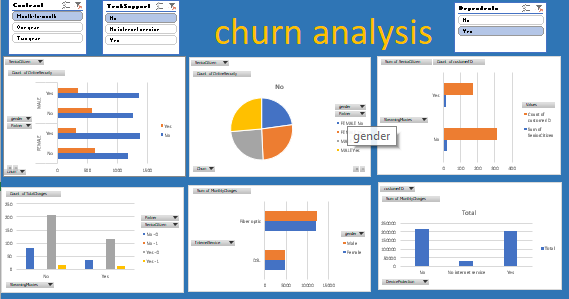

What the dashboard file says about the page in this screenshot:
{"tool":"powerbi","page":{"name":"Page 1","canvas":[1280,720],"ordinal":0},"visuals":[{"type":"columnChart","fields":{"Category":["WA_Fn-UseC_-Telco-Customer-Chur.Contract"],"Y":["CountNonNull(WA_Fn-UseC_-Telco-Customer-Chur.Dependents)"],"Series":["WA_Fn-UseC_-Telco-Customer-Chur.InternetService"]},"box":[0,378,355.3,342],"z":0},{"type":"kpi","fields":{"TrendLine":["WA_Fn-UseC_-Telco-Customer-Chur.MonthlyCharges"],"Indicator":["Sum(WA_Fn-UseC_-Telco-Customer-Chur.MonthlyCharges)"]},"box":[1.9,39.7,266.5,109.6],"z":1},{"type":"donutChart","fields":{"Y":["CountNonNull(WA_Fn-UseC_-Telco-Customer-Chur.PaymentMethod)"],"Series":["WA_Fn-UseC_-Telco-Customer-Chur.PhoneService"]},"box":[763.5,378,515.9,342],"z":2},{"type":"pieChart","fields":{"Category":["WA_Fn-UseC_-Telco-Customer-Chur.gender"],"Y":["CountNonNull(WA_Fn-UseC_-Telco-Customer-Chur.PaperlessBilling)"]},"box":[355.3,378,408.2,342],"z":3},{"type":"gauge","fields":{"Y":["Sum(WA_Fn-UseC_-Telco-Customer-Chur.SeniorCitizen)"]},"box":[763.5,0,515.9,378],"z":5},{"type":"clusteredColumnChart","fields":{"Y":["Sum(WA_Fn-UseC_-Telco-Customer-Chur.MonthlyCharges)"],"Category":["WA_Fn-UseC_-Telco-Customer-Chur.StreamingTV"]},"box":[497,0,266.5,378],"z":6},{"type":"columnChart","fields":{"Category":["WA_Fn-UseC_-Telco-Customer-Chur.StreamingMovies"],"Y":["Sum(WA_Fn-UseC_-Telco-Customer-Chur.TotalCharges)"]},"box":[0,149.3,266.5,228.7],"z":7},{"type":"hundredPercentStackedColumnChart","fields":{"Y":["Sum(WA_Fn-UseC_-Telco-Customer-Chur.tenure)"],"Category":["WA_Fn-UseC_-Telco-Customer-Chur.TechSupport"]},"box":[266.5,0,230.6,378],"z":8},{"type":"textbox","box":[1.9,0,243.8,39.7],"z":9}]}

Visuals, with their boxes on the page's 1280x720 design canvas (x1, y1, x2, y2). These are canvas units, not pixel positions in the 569x299 screenshot, which may show the page scaled, cropped or inside an application window:
columnChart - WA_Fn-UseC_-Telco-Customer-Chur.Contract x CountNonNull(WA_Fn-UseC_-Telco-Customer-Chur.Dependents): 0,378,355,720
kpi - WA_Fn-UseC_-Telco-Customer-Chur.MonthlyCharges x Sum(WA_Fn-UseC_-Telco-Customer-Chur.MonthlyCharges): 2,40,268,149
donutChart - CountNonNull(WA_Fn-UseC_-Telco-Customer-Chur.PaymentMethod) x WA_Fn-UseC_-Telco-Customer-Chur.PhoneService: 764,378,1279,720
pieChart - WA_Fn-UseC_-Telco-Customer-Chur.gender x CountNonNull(WA_Fn-UseC_-Telco-Customer-Chur.PaperlessBilling): 355,378,764,720
gauge - Sum(WA_Fn-UseC_-Telco-Customer-Chur.SeniorCitizen): 764,0,1279,378
clusteredColumnChart - Sum(WA_Fn-UseC_-Telco-Customer-Chur.MonthlyCharges) x WA_Fn-UseC_-Telco-Customer-Chur.StreamingTV: 497,0,764,378
columnChart - WA_Fn-UseC_-Telco-Customer-Chur.StreamingMovies x Sum(WA_Fn-UseC_-Telco-Customer-Chur.TotalCharges): 0,149,266,378
hundredPercentStackedColumnChart - Sum(WA_Fn-UseC_-Telco-Customer-Chur.tenure) x WA_Fn-UseC_-Telco-Customer-Chur.TechSupport: 266,0,497,378
textbox: 2,0,246,40
